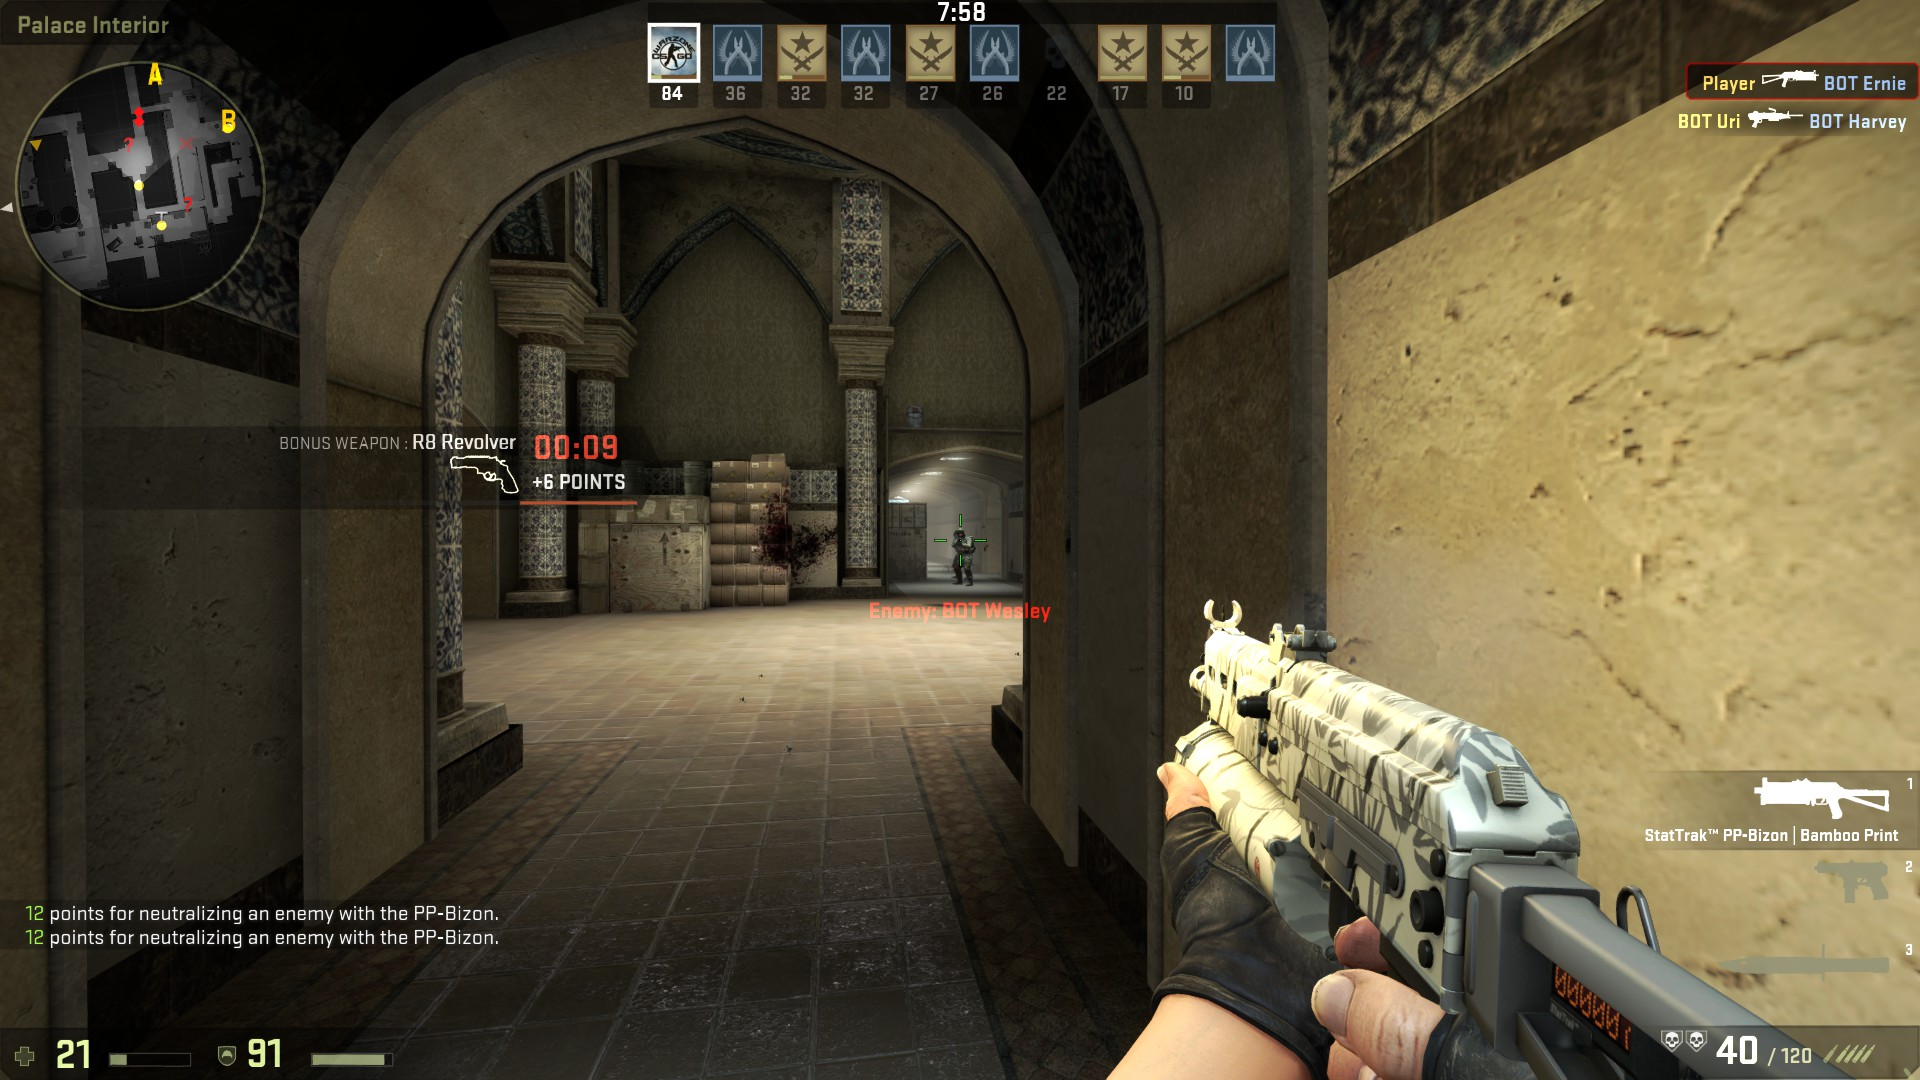c: (951, 526, 975, 587)
ch: (956, 527, 968, 541)
